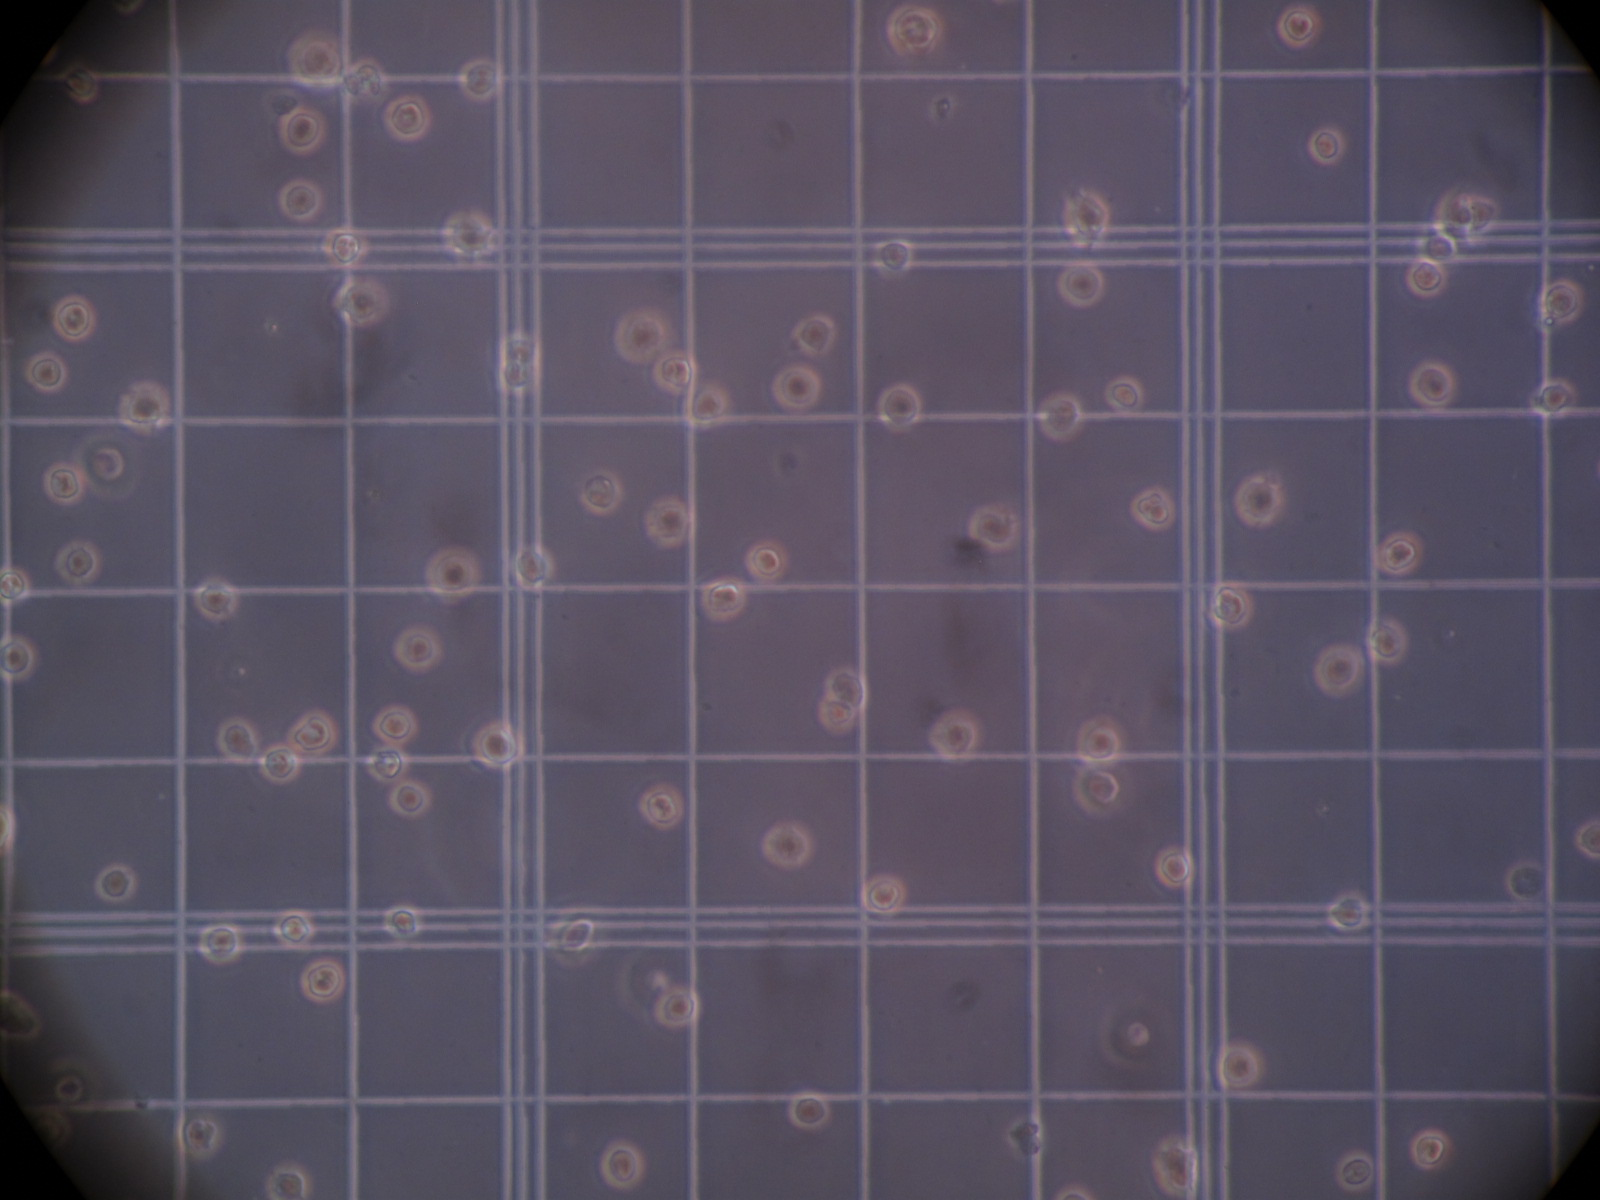hemo: (1099, 998, 1150, 1071), (283, 28, 344, 89), (423, 545, 477, 606), (49, 1053, 100, 1118), (1211, 1031, 1266, 1089), (74, 437, 126, 499), (548, 903, 597, 967), (615, 308, 668, 366), (333, 275, 391, 328), (1150, 1136, 1199, 1197), (117, 379, 173, 434), (884, 3, 941, 54), (1060, 190, 1111, 247), (443, 205, 496, 258), (641, 493, 690, 550), (470, 721, 524, 770), (1072, 765, 1121, 818), (391, 625, 443, 674), (929, 708, 976, 763), (1204, 584, 1254, 633), (763, 818, 811, 868), (1, 987, 44, 1042), (598, 1139, 646, 1189), (1315, 643, 1361, 695), (966, 504, 1018, 550), (576, 468, 624, 516), (1057, 261, 1106, 308), (278, 107, 325, 156), (384, 92, 430, 142), (1235, 475, 1279, 527), (772, 366, 821, 411), (300, 955, 345, 1005), (287, 708, 336, 754), (1039, 391, 1082, 442), (637, 783, 684, 829), (1073, 717, 1117, 766), (370, 702, 420, 746), (194, 575, 238, 624), (50, 292, 94, 342), (215, 716, 258, 766), (700, 576, 746, 621), (877, 382, 921, 429), (28, 1105, 74, 1150), (1366, 616, 1409, 664), (859, 874, 907, 916), (1410, 363, 1454, 408), (55, 539, 101, 584), (1540, 279, 1581, 326), (1153, 845, 1197, 889), (823, 668, 868, 711), (653, 350, 695, 396), (511, 545, 554, 590), (455, 57, 499, 100), (277, 179, 323, 221), (321, 227, 368, 267), (792, 314, 835, 357), (1377, 532, 1421, 574), (184, 1114, 226, 1158), (653, 987, 700, 1025), (1129, 487, 1170, 529), (1329, 891, 1372, 933), (684, 389, 727, 431), (198, 923, 239, 966), (44, 461, 84, 505), (745, 539, 789, 579), (1533, 378, 1575, 418), (25, 350, 67, 391), (787, 1089, 830, 1128), (389, 782, 433, 819), (365, 745, 411, 782), (1409, 1128, 1449, 1168), (1277, 8, 1317, 49), (1405, 258, 1448, 296), (1104, 376, 1146, 413), (96, 863, 139, 901), (1, 632, 34, 681), (265, 1166, 311, 1200), (496, 333, 543, 367), (1507, 860, 1547, 899), (1334, 1152, 1374, 1191), (815, 696, 855, 735), (273, 911, 314, 950), (260, 742, 299, 783), (60, 63, 100, 103), (1435, 189, 1471, 232), (871, 239, 912, 276), (1416, 229, 1459, 263), (493, 357, 535, 391), (1468, 193, 1500, 236), (1306, 129, 1343, 165), (386, 908, 421, 938), (1, 567, 31, 603), (1577, 822, 1600, 857)
